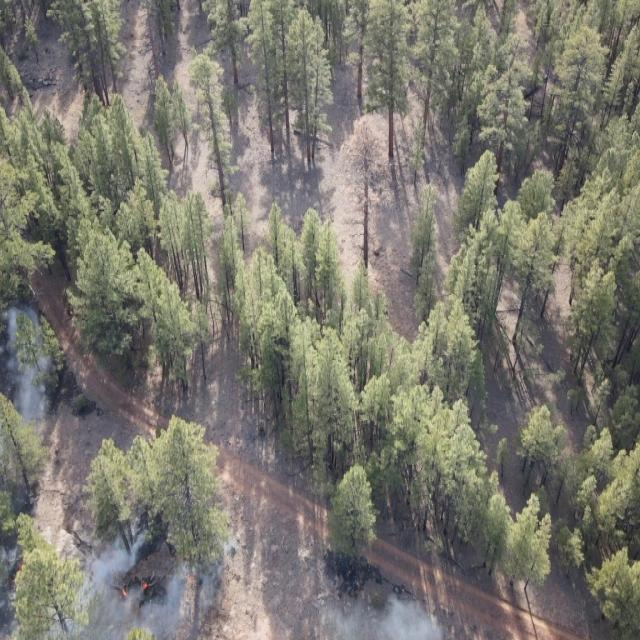fire: (10, 562, 28, 588), (174, 572, 198, 587), (118, 581, 130, 603), (140, 579, 150, 595)
smoke: (56, 524, 240, 640), (0, 301, 53, 423), (327, 594, 445, 640), (0, 544, 33, 640)
